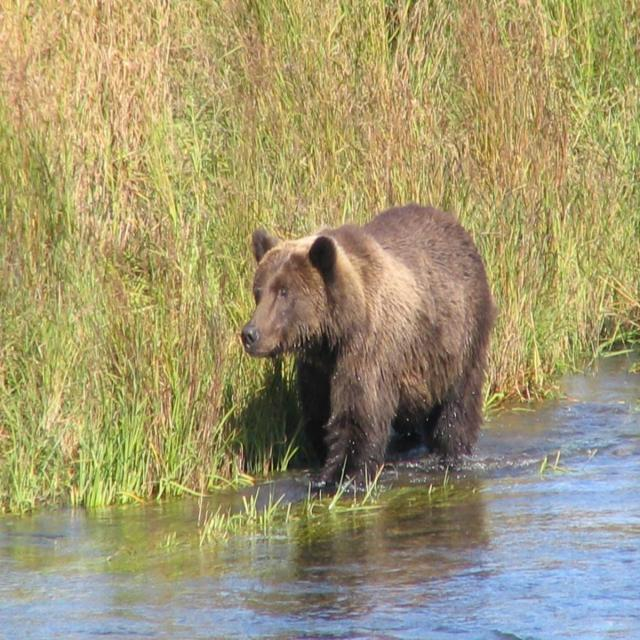bear face: (242, 205, 491, 479)
